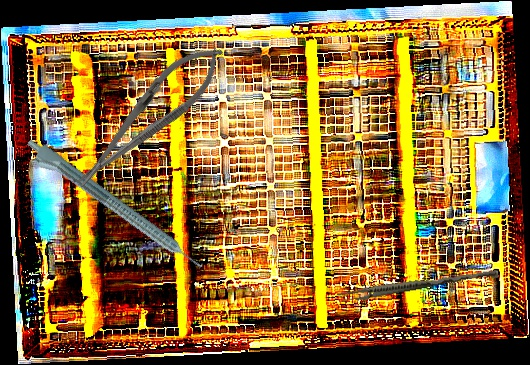Handpiece: (19, 135, 206, 281)
Needle Holder: (61, 30, 237, 202)
Tissue Forceps: (337, 264, 499, 306)
